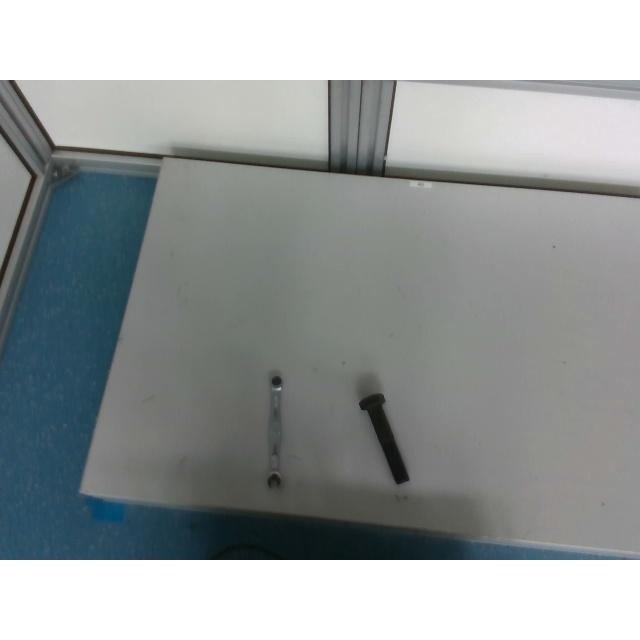M20_100: (358, 393, 409, 485)
Wrench: (264, 375, 284, 489)
